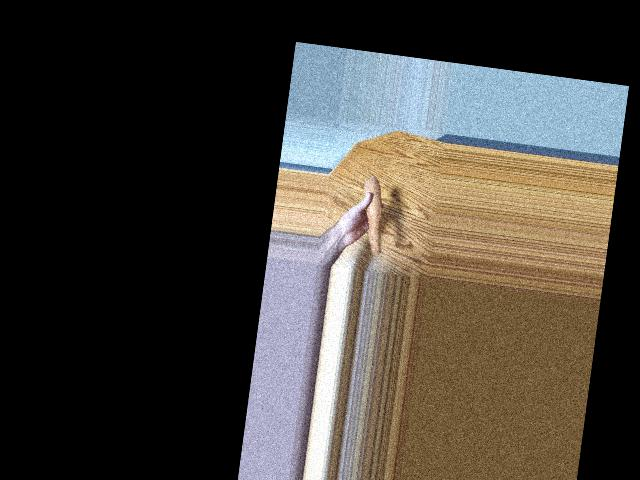sweet_potato: (361, 177, 386, 254)
